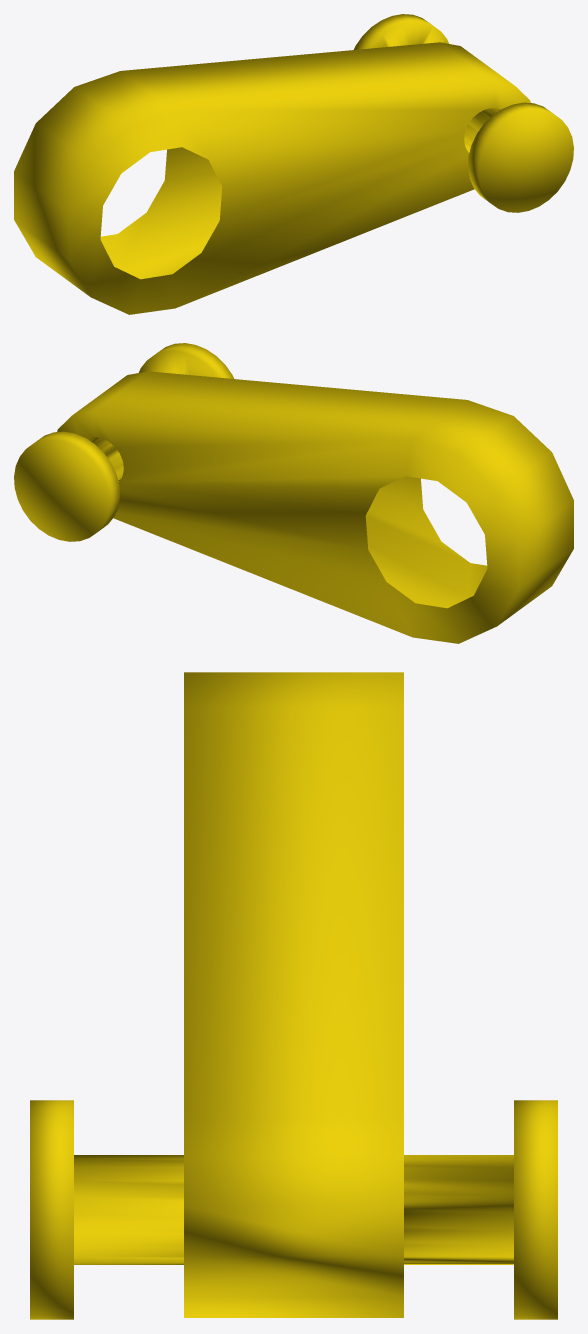
File: rocker_holder.dae
3 renders of one model, top to bottom at view 1: azimuth 30°, elevation 25°; view 2: azimuth 150°, elevation 25°; view 3: azimuth 270°, elevation 25°, orthographic. The views are drawn at different scales.
Parts seen in each view (by area): view 1: node0; view 2: node0; view 3: node0.
Part boxes in pixels (x1,y1,x2,y2): node0: (14,14,573,314); node0: (14,343,573,643); node0: (30,672,557,1319).
Bounding box in the file's own units: 0.4897 × 0.24 × 0.1979.
